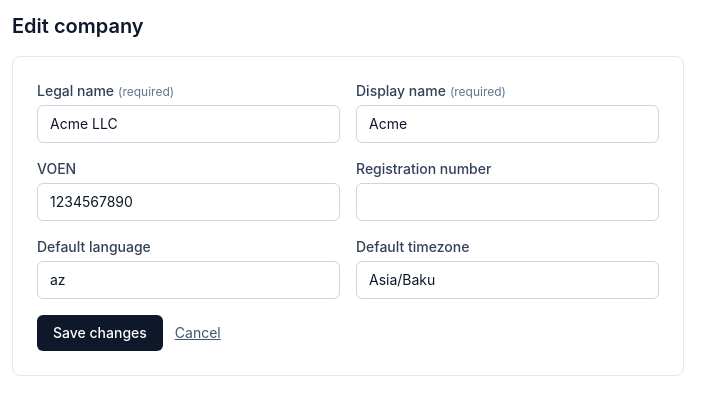
AdminCompanyEditPage › validates required fields before PATCHing
Clear the field labelled "Legal name(required)" at coordinates (188, 124), box [37,105,340,143]
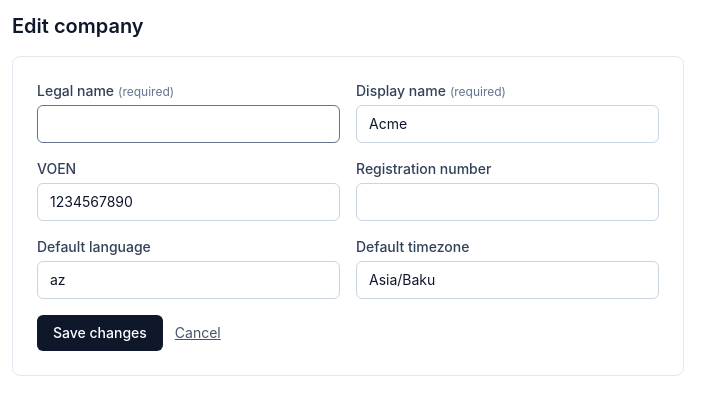
Clear the field labelled "Display name(required)" at coordinates (508, 124), box [356,105,659,143]
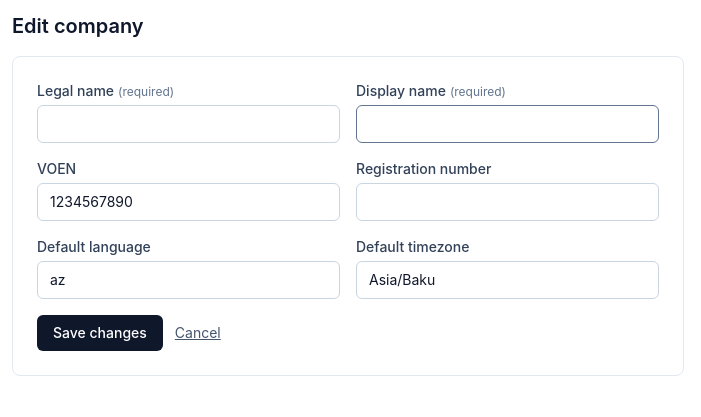
Click the button "Save changes" at coordinates (100, 333), box [37,315,163,351]
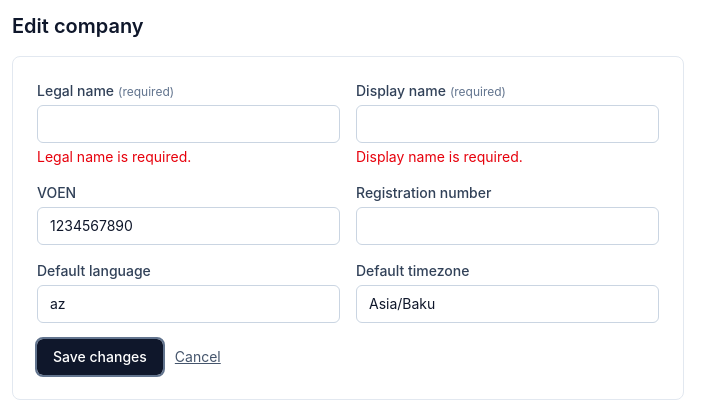
Check: the text "Legal name is required." is shown, box [37,148,191,165]
Check: the text "Display name is required." is shown, box [356,148,523,165]
